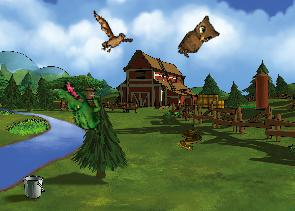crocodile: (47, 77, 116, 138)
eagle: (82, 10, 138, 59)
owl: (175, 12, 224, 66)
